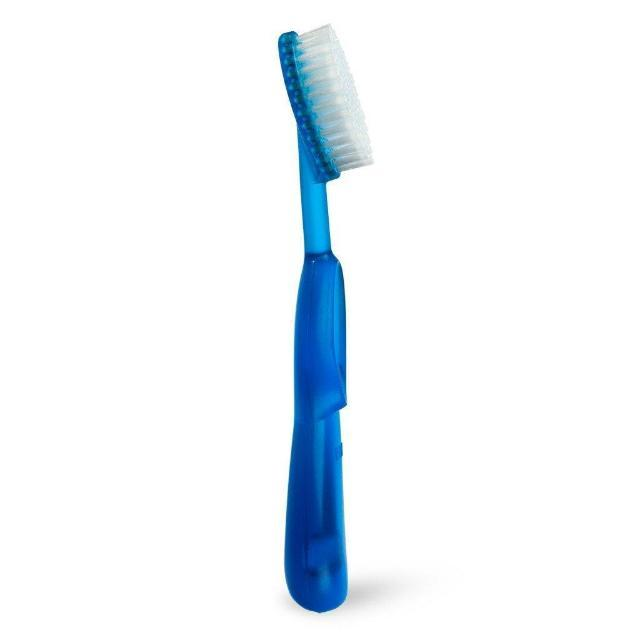toothbrush: (248, 2, 434, 640)
